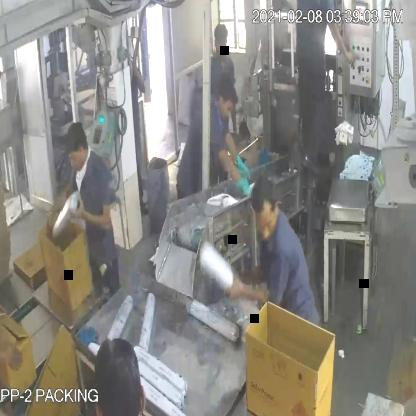glove: (215, 150, 254, 197)
no_glove: (70, 193, 114, 239), (0, 336, 22, 376)
